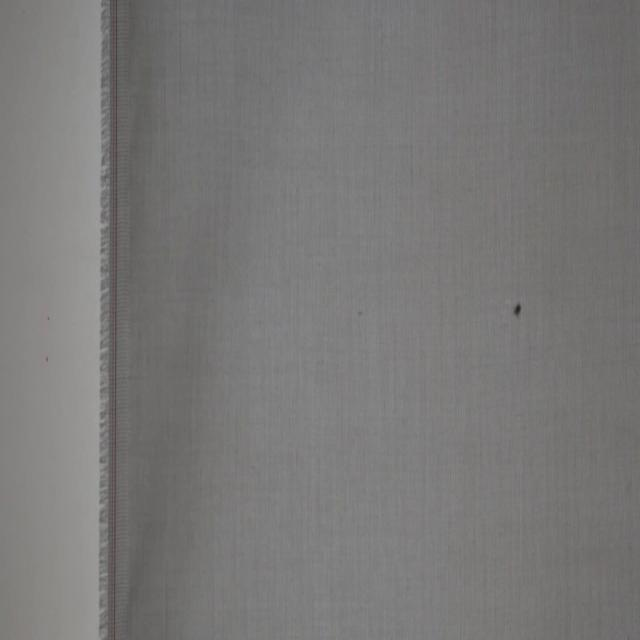dirty: (512, 300, 523, 321)
